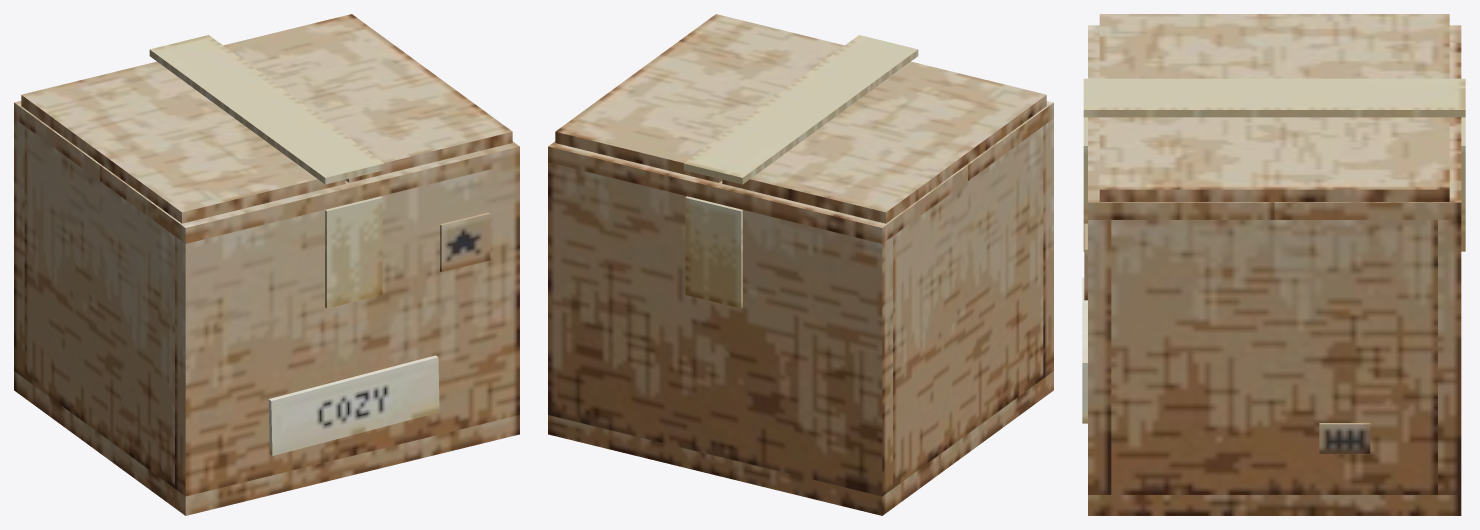
File: box_f1_cozy.glb
The picture shows the model from 3 angles, left to right: view 1: azimuth 30°, elevation 25°; view 2: azimuth 150°, elevation 25°; view 3: azimuth 270°, elevation 25°; orthographic projection. The views are drawn at different scales.
Visible parts, largest first — view 1: solid (×6); view 2: solid (×6); view 3: solid (×6).
Part boxes in pixels (left/top/right/bottom): solid (×6): left=14, top=14, right=519, bottom=515; solid (×6): left=548, top=14, right=1053, bottom=515; solid (×6): left=1082, top=14, right=1465, bottom=515.
Size of the model in its own units: 18.16 by 15.74 by 16.44.
Materials: 1 (1 with a texture image).
